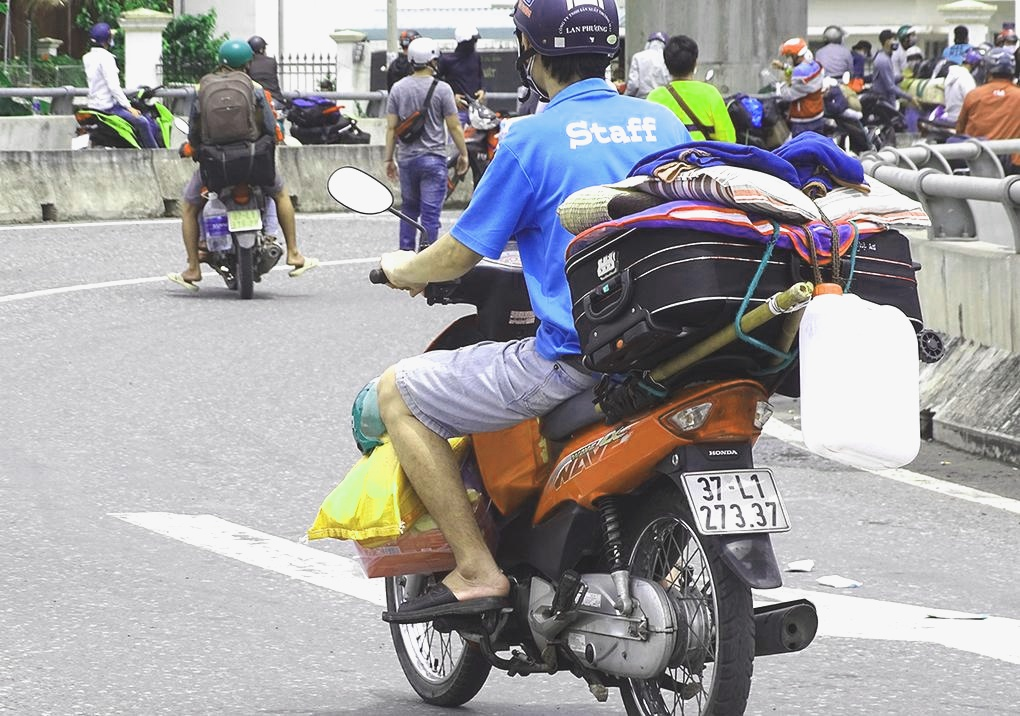Bien-so: (680, 474, 797, 552), (236, 218, 277, 246), (81, 146, 100, 164)
